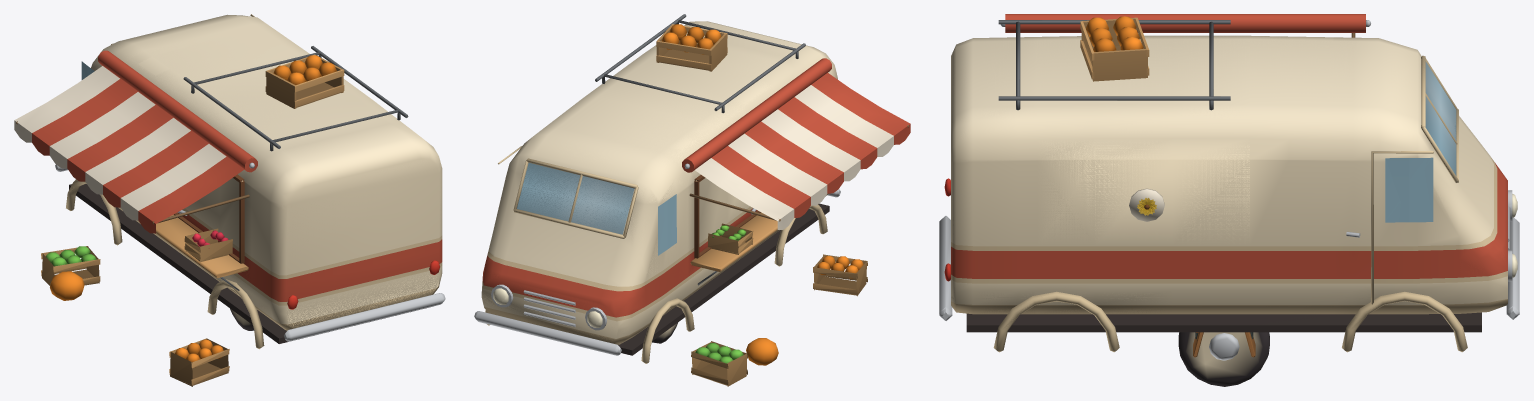
The model's file is van.glb.
The picture shows the model from 3 angles, left to right: view 1: azimuth 30°, elevation 25°; view 2: azimuth 150°, elevation 25°; view 3: azimuth 270°, elevation 25°; orthographic projection. The views are drawn at different scales.
Parts seen in each view (by area): view 1: van_closed, van_open; view 2: van_closed, van_open; view 3: van_closed, van_open, van_wheel.
Boxes of the visible parts, left/top/right/bottom form: van_closed: left=55, top=14, right=444, bottom=349; van_open: left=14, top=15, right=445, bottom=386; van_closed: left=474, top=14, right=840, bottom=363; van_open: left=475, top=14, right=910, bottom=386; van_closed: left=939, top=14, right=1519, bottom=352; van_open: left=940, top=20, right=1519, bottom=351; van_wheel: left=1178, top=332, right=1269, bottom=386.
Size of the model in its own units: 3 by 3.09 by 4.5.
